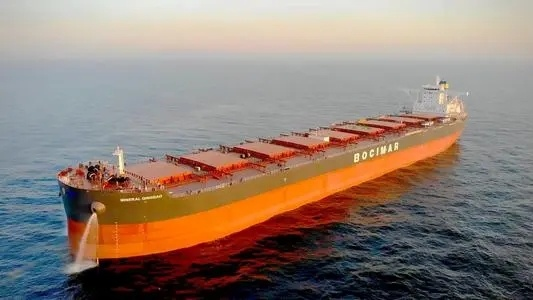Cargoship: (50, 75, 470, 265)
